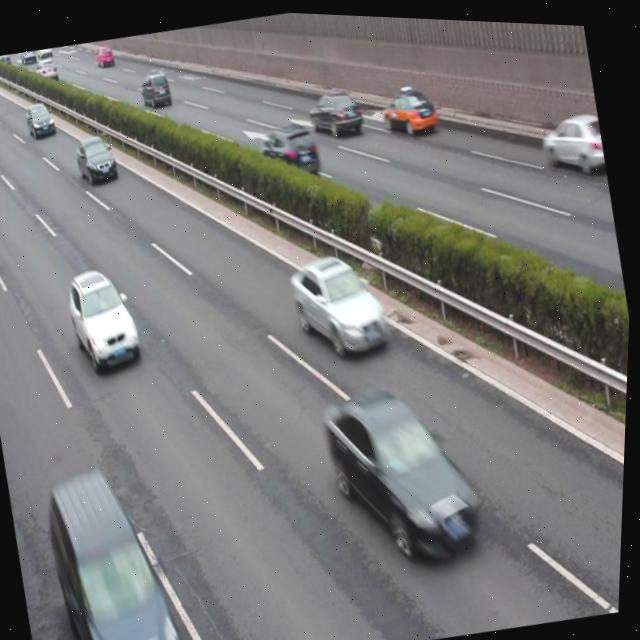car: (320, 371, 492, 574), (40, 460, 201, 640), (287, 242, 396, 360), (64, 263, 148, 374), (539, 103, 608, 172), (260, 114, 325, 182), (380, 80, 440, 136), (306, 83, 365, 138), (75, 129, 121, 187), (139, 67, 175, 108), (25, 101, 58, 139), (35, 55, 60, 82), (95, 41, 116, 68)
